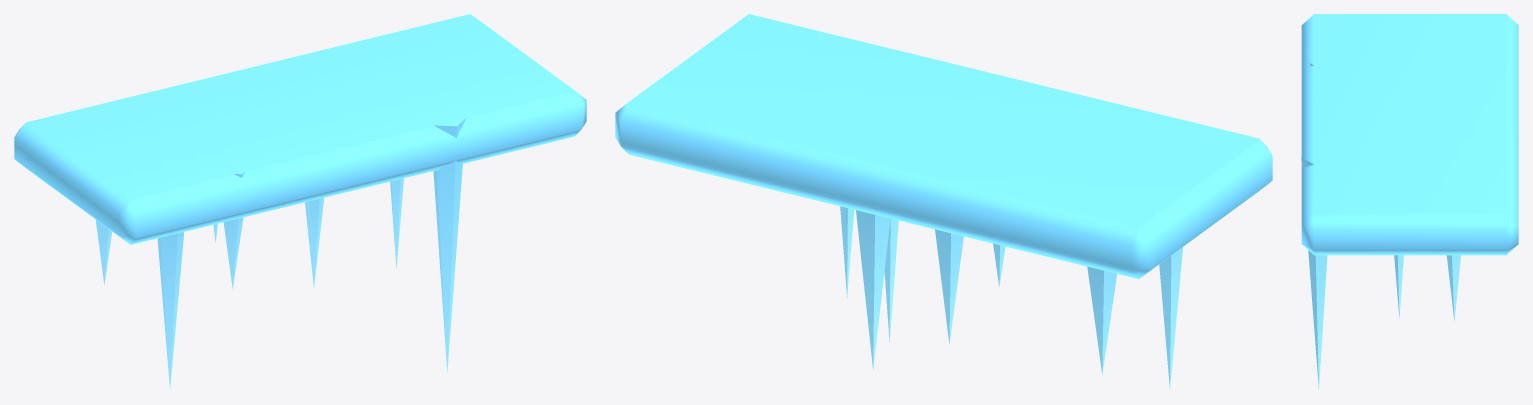
The model's file is prop.glacier_icicles.glb.
3 views of the same model, side by side, from view 1: azimuth 30°, elevation 25°; view 2: azimuth 150°, elevation 25°; view 3: azimuth 270°, elevation 25° (orthographic). The views are drawn at different scales.
Visible parts, largest first — view 1: glacier_icicles; view 2: glacier_icicles; view 3: glacier_icicles.
Boxes of the visible parts, box(x1,y1,x2,y2) form: glacier_icicles: box(14, 14, 586, 389); glacier_icicles: box(615, 14, 1272, 389); glacier_icicles: box(1301, 14, 1518, 388).
Bounding box in the file's own units: 3.2 × 1.67 × 1.4.
